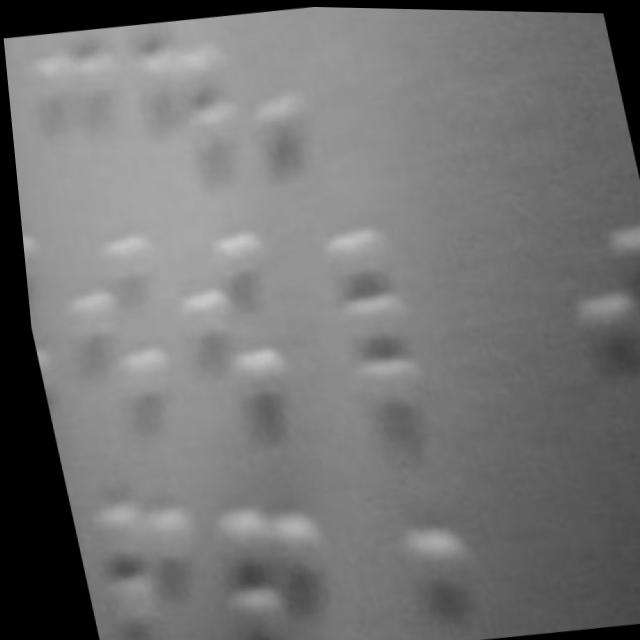braiile: (159, 218, 304, 434), (42, 226, 187, 442), (276, 217, 420, 424), (190, 485, 342, 640), (122, 12, 253, 189), (59, 483, 205, 640), (545, 204, 640, 431), (23, 23, 145, 186), (333, 507, 475, 640), (18, 234, 72, 442), (3, 37, 35, 185)
